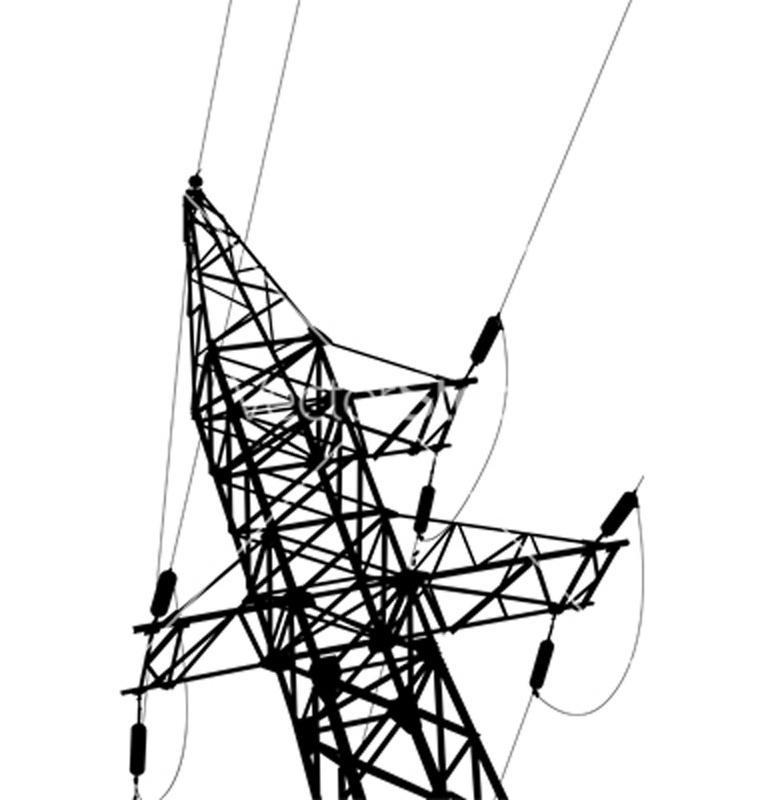power_tower: (124, 171, 643, 799)
